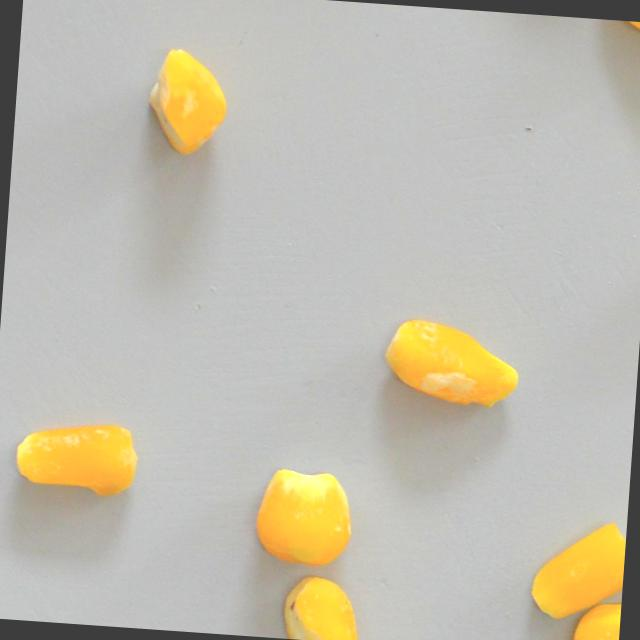estandar: (526, 517, 627, 623)
no_canjicado: (251, 465, 355, 569), (143, 45, 231, 159), (572, 600, 621, 640)
pelicula: (381, 317, 522, 411), (9, 418, 139, 499)
punto_negro: (279, 574, 364, 640)
